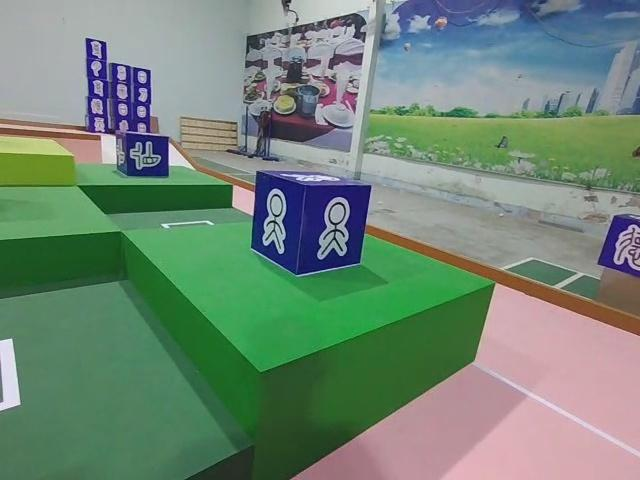R2 Fake Blue: (598, 216, 640, 290)
R2 Real Blue: (254, 171, 375, 278), (115, 133, 169, 180)
